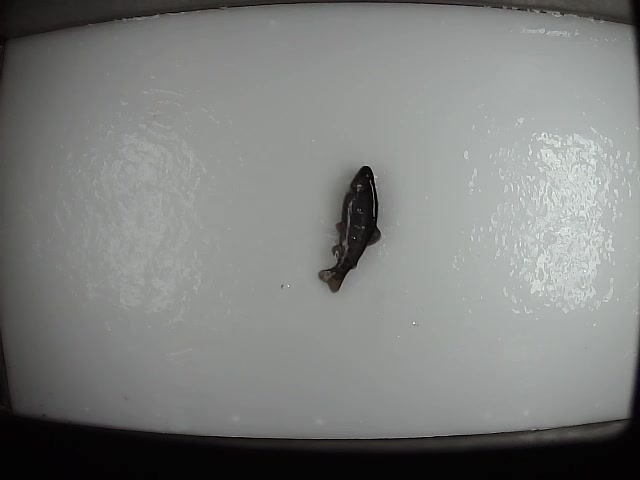fish: (315, 161, 387, 296)
